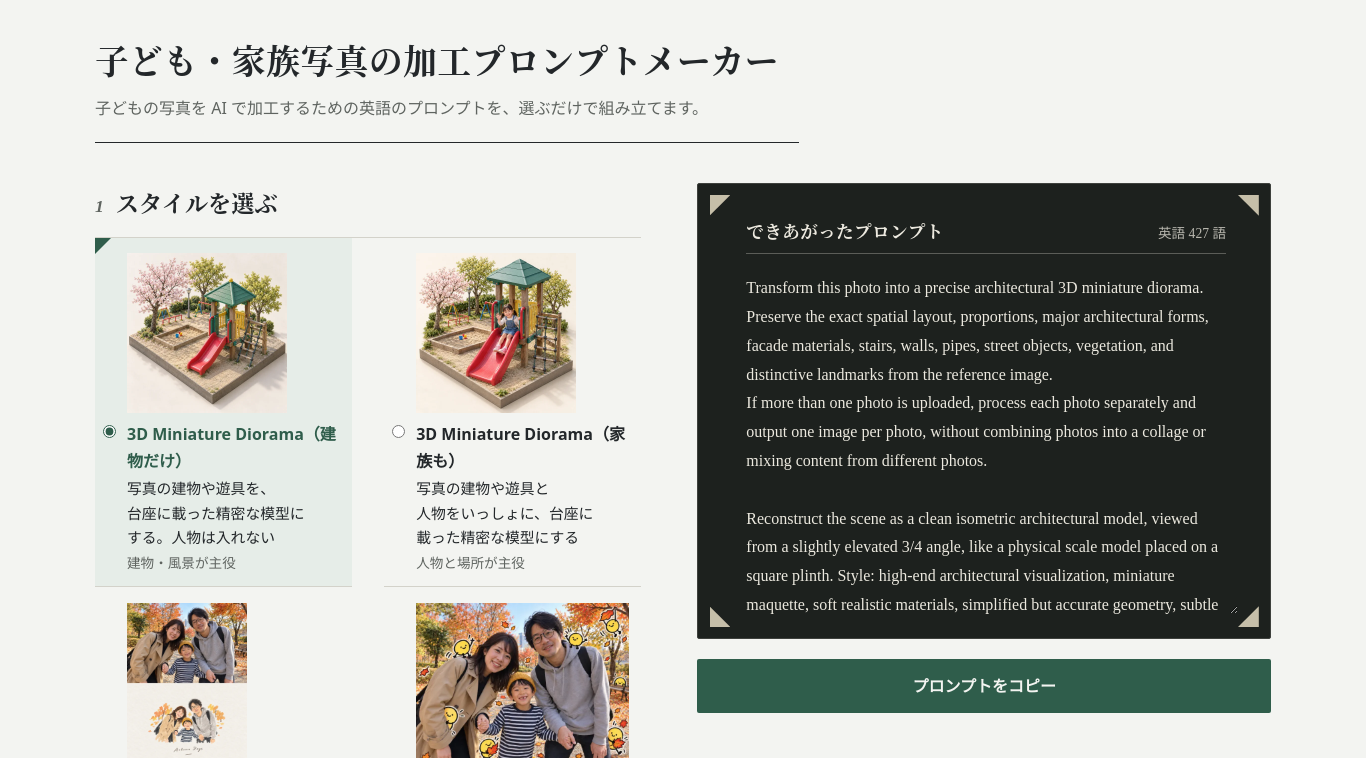
コピーと開くボタン › コピーすると画面のプロンプトと同じ文字をクリップボードへ書き込み、そう知らせる
The image size is (1366, 758).
Click the button "プロンプトをコピー".
click(984, 686)  # box left=697, top=659, right=1271, bottom=713
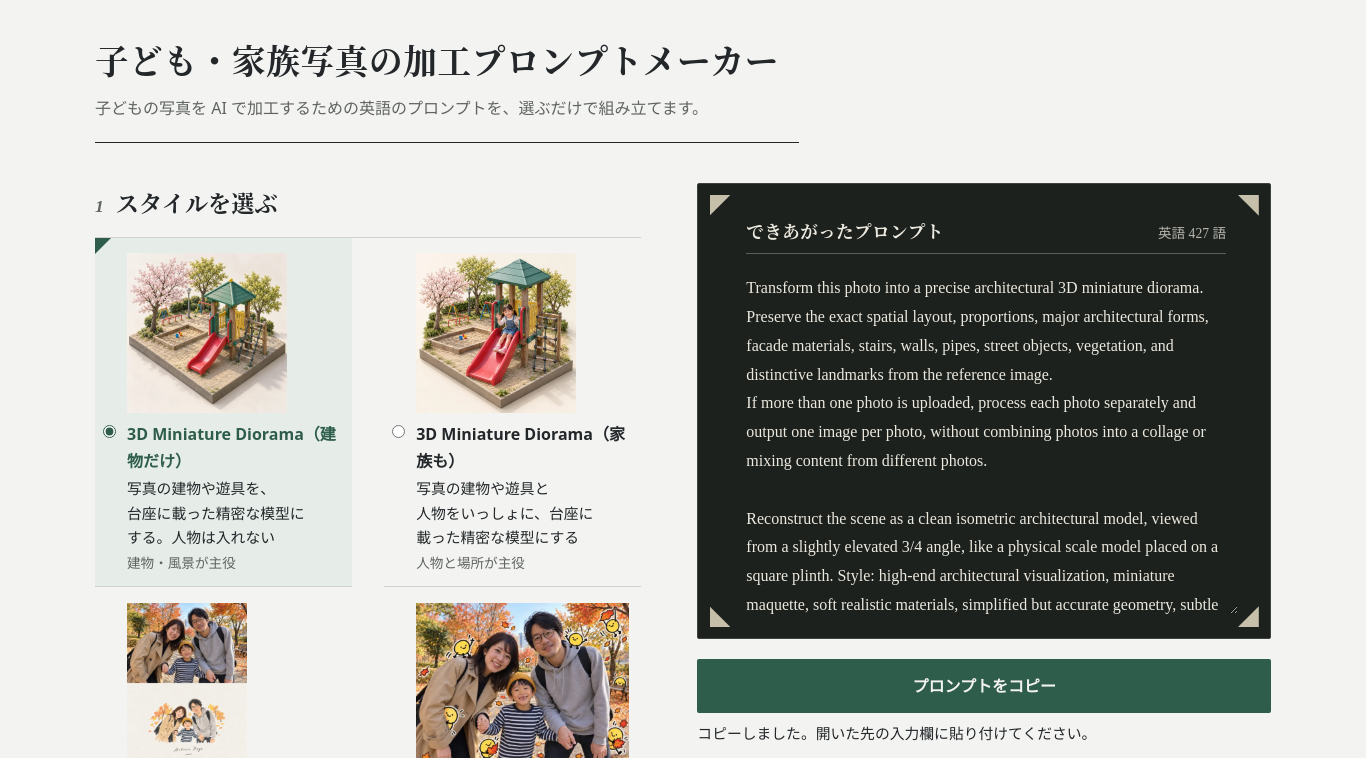
Now the text "コピーしました。開いた先の入力欄に貼り付けてください。" is shown, box left=697, top=723, right=1096, bottom=743
